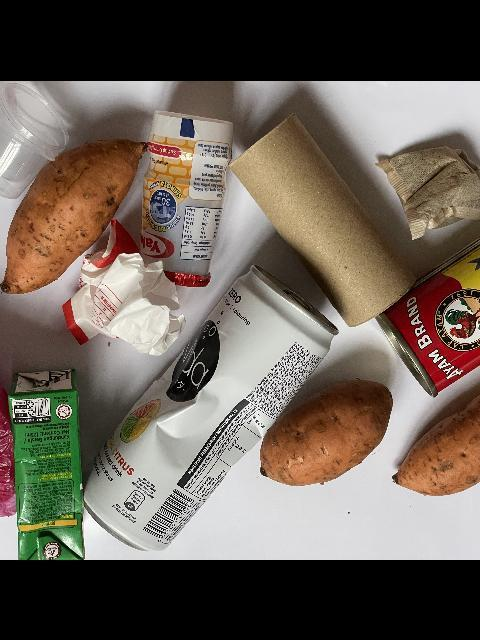drinkcan: (80, 263, 342, 552)
drinkpack: (7, 368, 81, 560)
paperbag: (61, 218, 188, 356)
plasticbag: (0, 350, 50, 532)
plasticbottle: (138, 109, 236, 288)
plasticcontainer: (0, 80, 69, 199)
sweetpotato: (0, 135, 147, 295), (260, 379, 394, 486), (390, 355, 480, 496)
teabag: (374, 144, 480, 242)
tissueroll: (227, 110, 416, 326)
